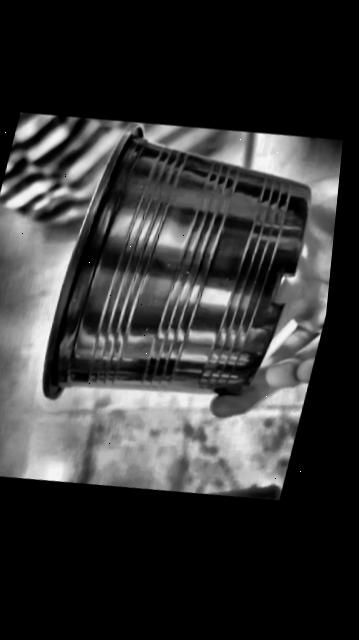pot: (42, 126, 308, 397)
